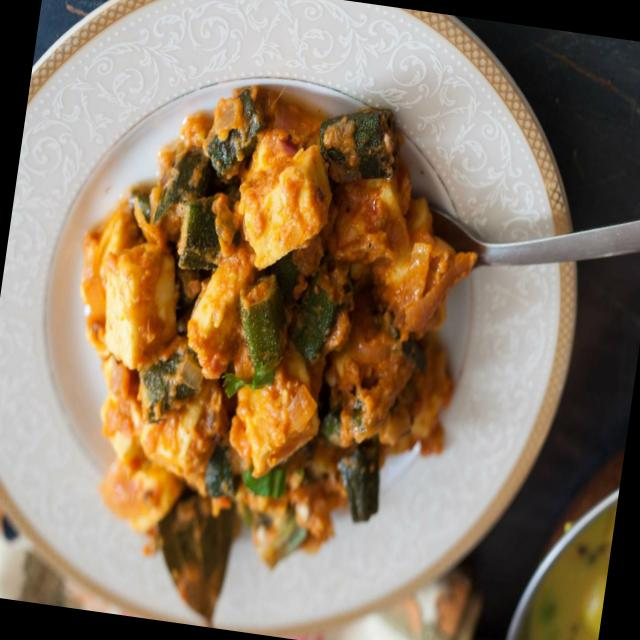BhindiMasala: (33, 66, 496, 640)
